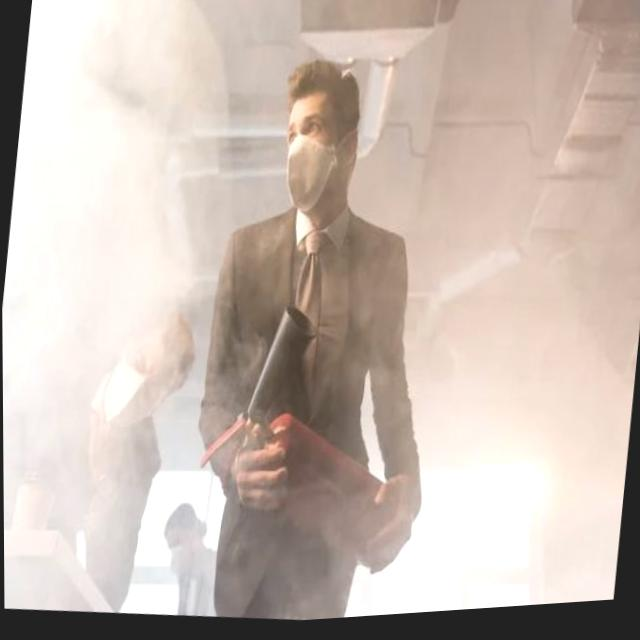FireExtinguisher: (180, 286, 431, 598)
